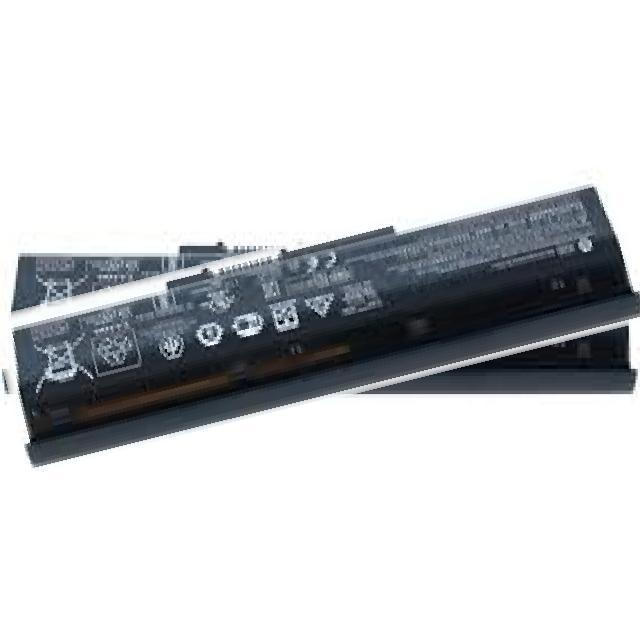Battery: (0, 170, 640, 486)
